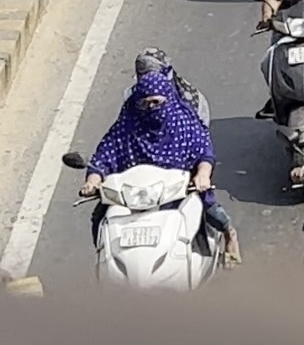BikeWithRider: (56, 42, 249, 304)
NoHelmet: (124, 70, 181, 125), (126, 42, 180, 89)
